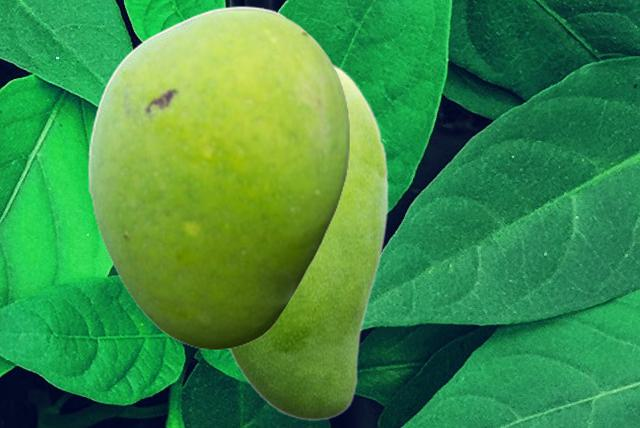green_mango: (87, 5, 349, 349), (227, 61, 388, 420)
